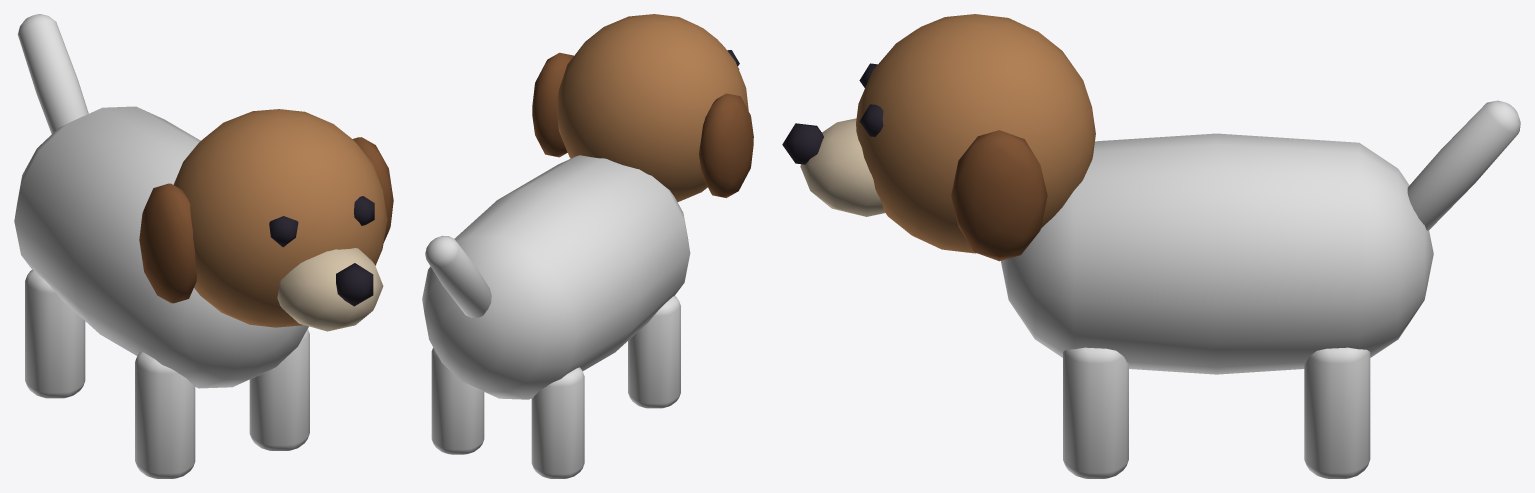
File: dog.fbx
3 views of the same model, side by side, from view 1: azimuth 30°, elevation 25°; view 2: azimuth 150°, elevation 25°; view 3: azimuth 270°, elevation 25° (orthographic). The views are drawn at different scales.
Parts seen in each view (by area): view 1: Body, Head; view 2: Body, Head; view 3: Body, Head.
Boxes of the visible parts, left/top/right/bottom form: Body: left=14, top=14, right=309, bottom=478; Head: left=139, top=109, right=393, bottom=331; Body: left=422, top=155, right=690, bottom=478; Head: left=532, top=14, right=753, bottom=201; Body: left=1001, top=100, right=1520, bottom=478; Head: left=782, top=14, right=1095, bottom=261.
Bounding box in the file's own units: 0.2476 × 0.38 × 0.6121.
